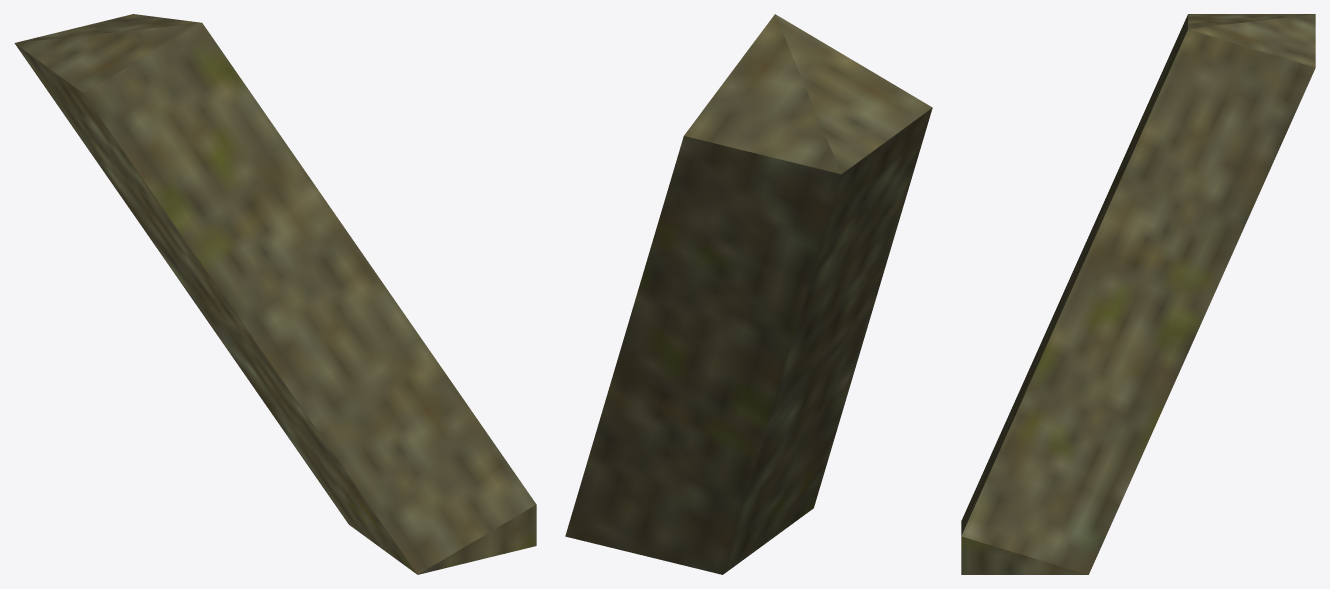
Rendered from poplar_branch_22.5_diagonal.obj.
3 renders of one model, left to right at view 1: azimuth 30°, elevation 25°; view 2: azimuth 150°, elevation 25°; view 3: azimuth 270°, elevation 25°, orthographic. The views are drawn at different scales.
Visible parts, largest first — view 1: cube; view 2: cube; view 3: cube.
Boxes of the visible parts, <box> form: cube: <box>14,14,536,574</box>; cube: <box>565,14,932,574</box>; cube: <box>961,14,1315,574</box>.
Bounding box in the file's own units: 1.56 × 2.19 × 1.56.
